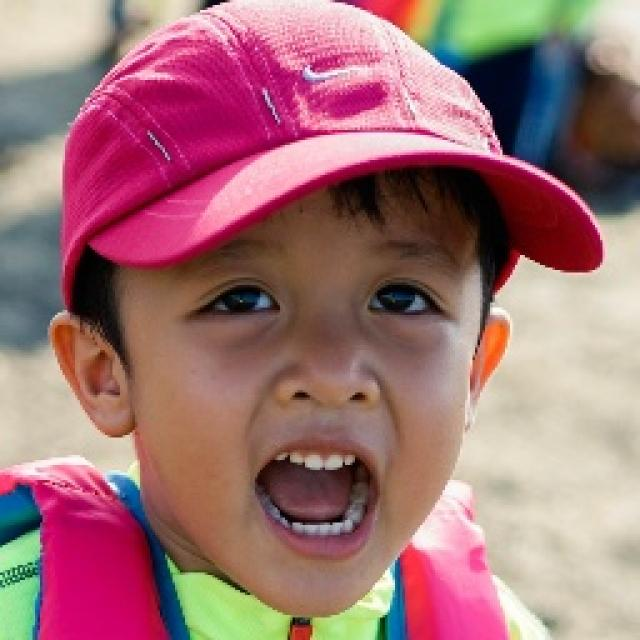earlobe: (45, 312, 136, 441), (463, 306, 513, 434)
